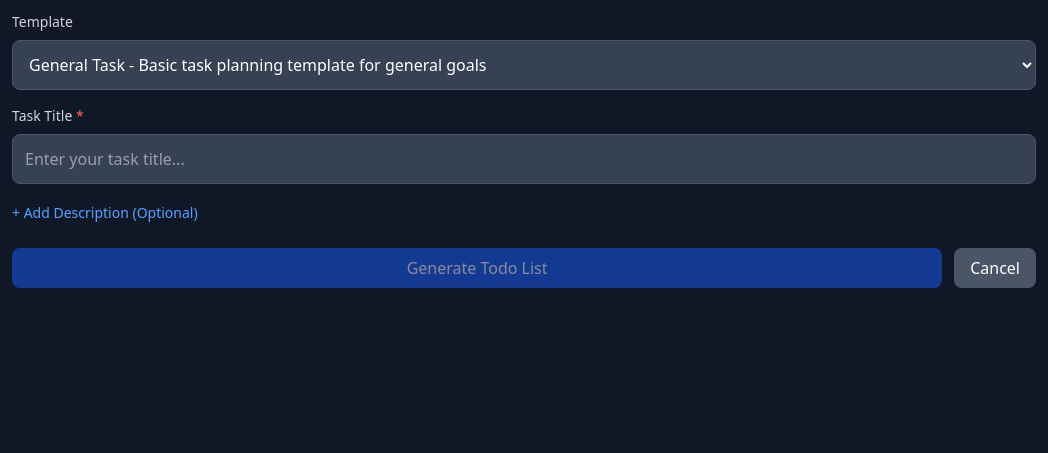
Test: NewTodoInput Component › Basic Rendering › shows description textarea when toggle is clicked
Step 1. Click the button "+ Add Description (Optional)" → click(105, 213), box [12,203,198,223]
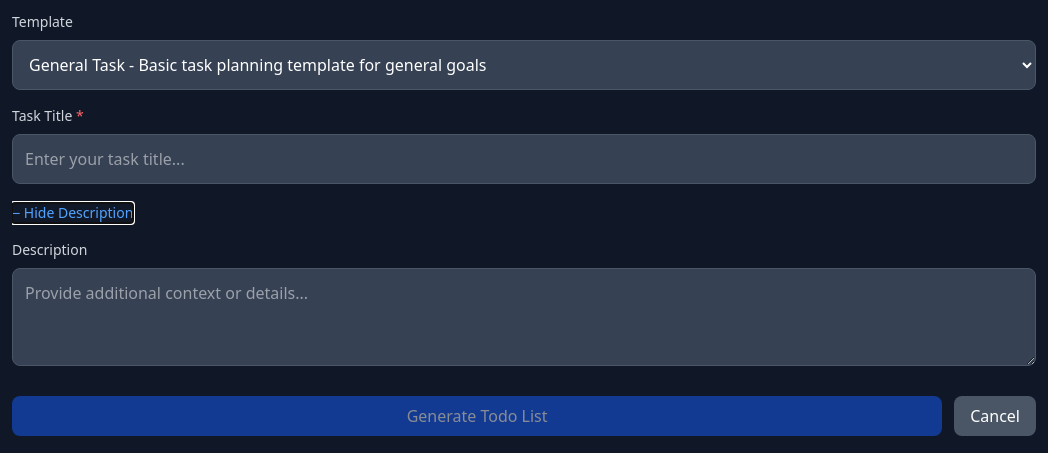
expect the text box with placeholder "Provide additional context or details..." is shown: met, box [12,268,1036,366]
